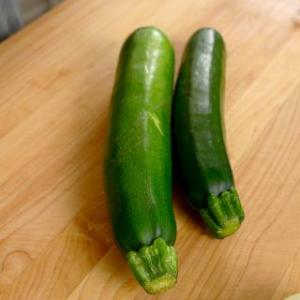zucchini: (104, 23, 195, 282)
